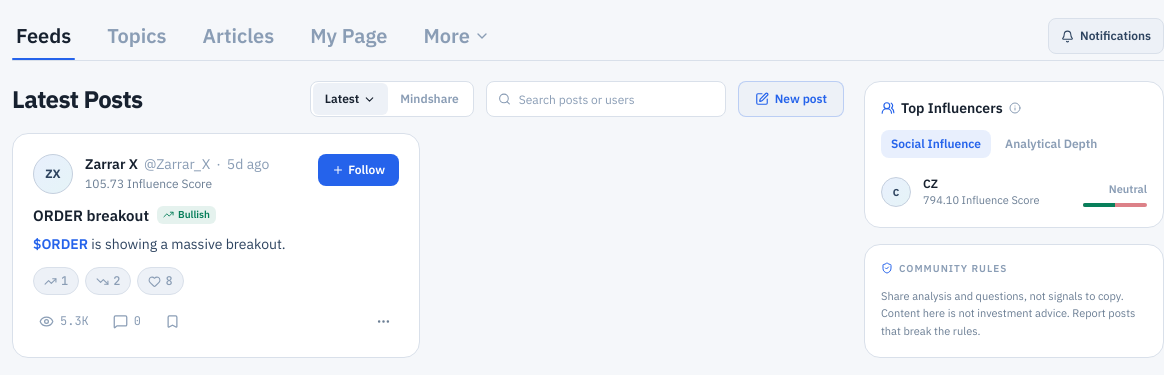
Test: community feed as on CoinMarketCap (D-99) › follows the author and votes with the server answer
Click the button with aria-label "Follow Zarrar X". click: (359, 170)
box: [318,154,399,186]
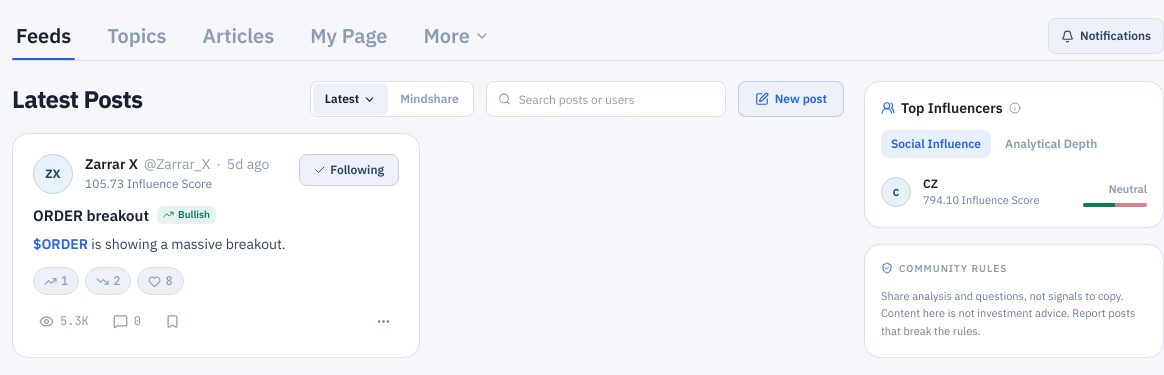
Result: the button with aria-label "Unfollow Zarrar X" is shown at [299,154,399,186]
Click the button named "Vote bearish". click: (108, 281)
box: [85,267,131,295]
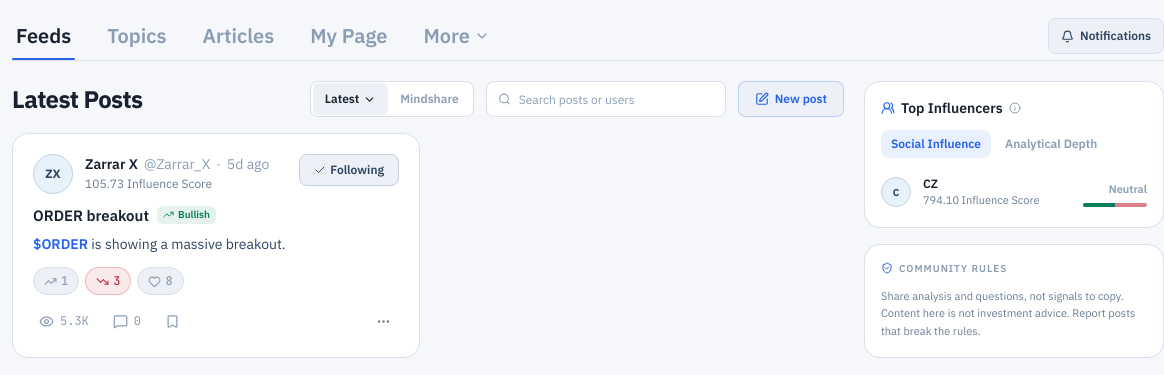
Result: the button named "Take back your vote" is shown at [85,267,131,295]
